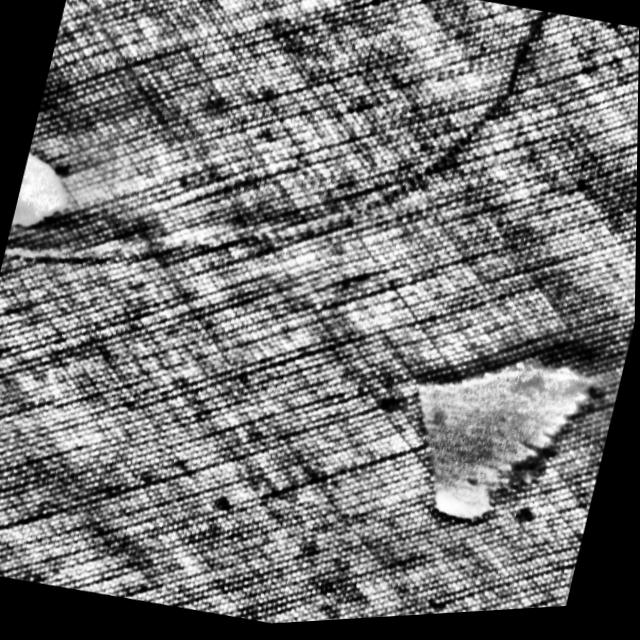Stitch: (0, 0, 566, 383), (376, 332, 610, 560), (8, 123, 89, 251)
